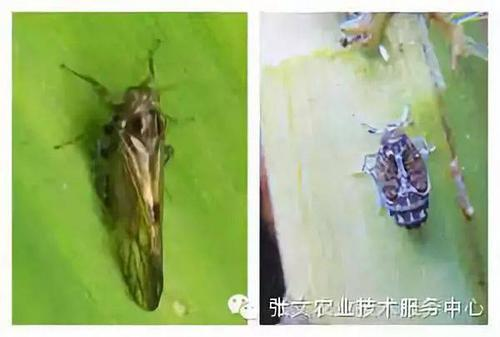Delphacidae: (51, 39, 195, 313), (346, 104, 436, 233)
